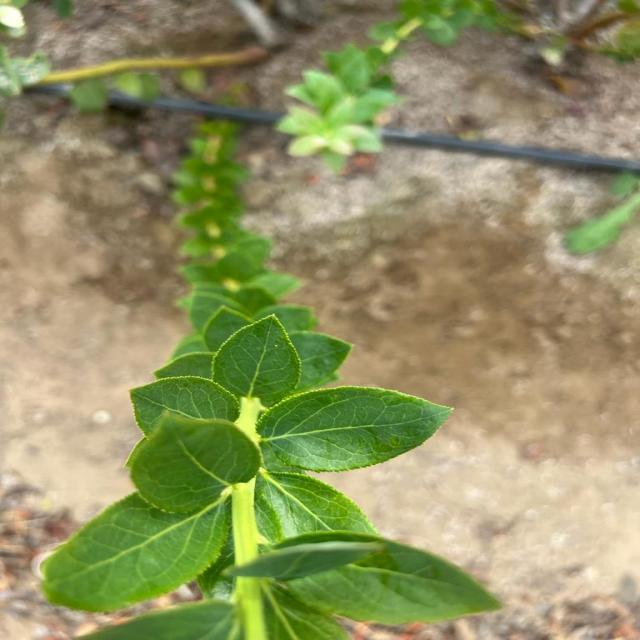Hojas sanas sin oidiosis: (253, 385, 454, 473), (209, 312, 303, 409), (122, 374, 243, 449)
